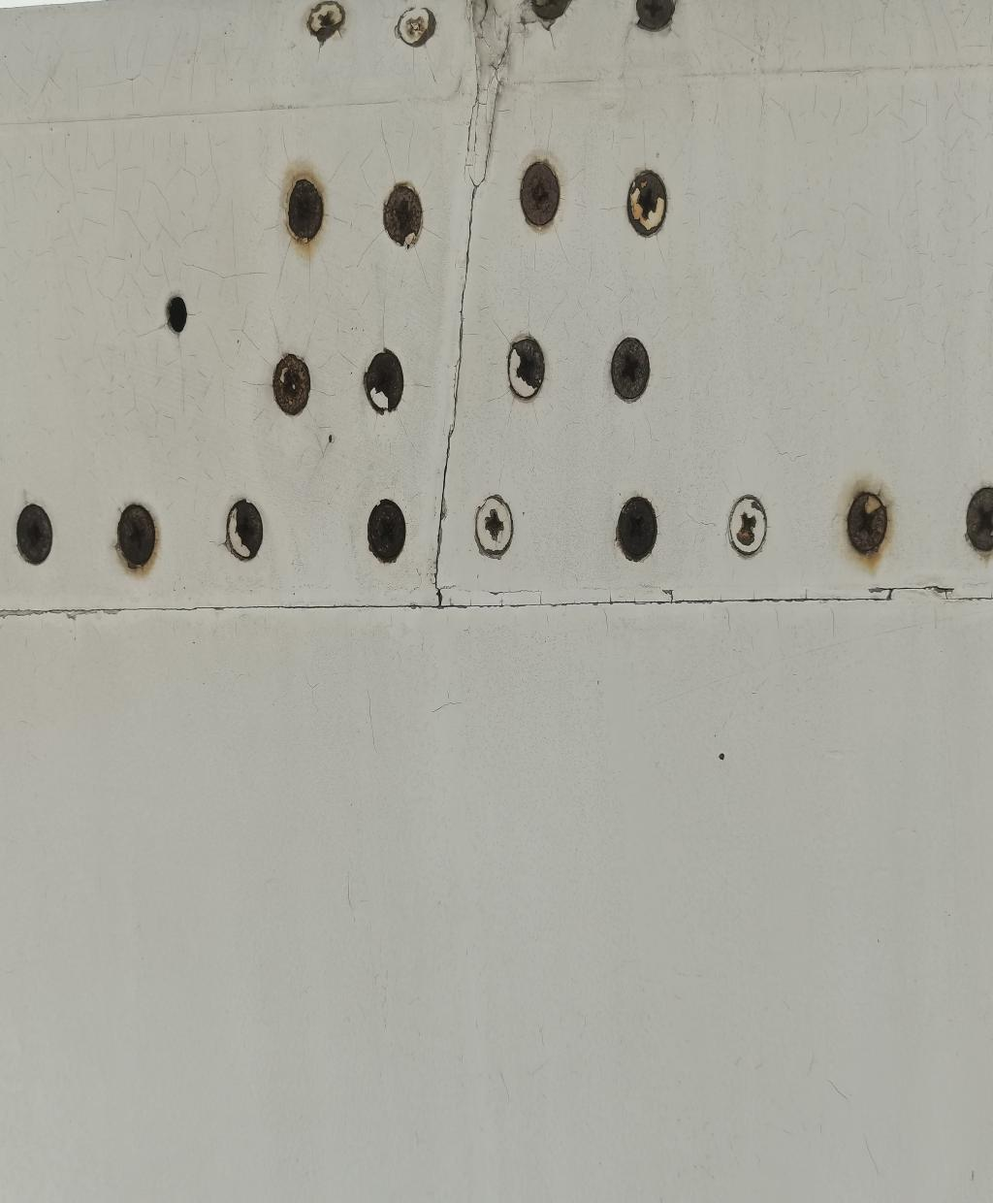corrosion: (612, 491, 670, 568), (604, 331, 657, 412), (113, 498, 160, 581), (359, 345, 409, 419), (516, 161, 566, 235), (624, 161, 668, 245), (381, 179, 425, 261), (956, 472, 993, 564), (269, 348, 313, 423), (367, 493, 409, 571), (505, 329, 548, 404), (846, 486, 889, 561), (12, 499, 54, 575), (284, 170, 327, 244), (225, 498, 268, 564), (632, 0, 681, 31), (528, 3, 578, 30)
